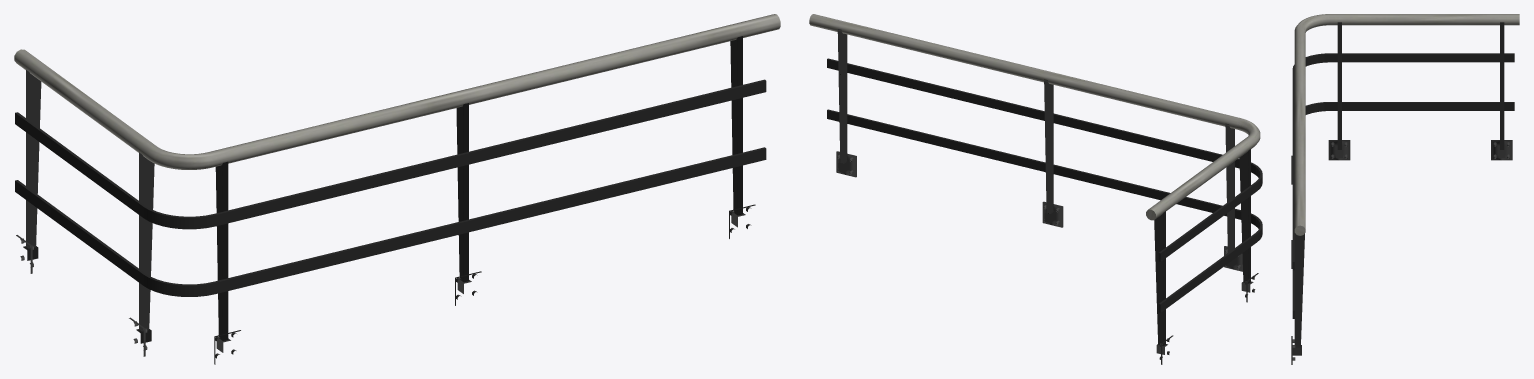
The picture shows the model from 3 angles, left to right: view 1: azimuth 30°, elevation 25°; view 2: azimuth 150°, elevation 25°; view 3: azimuth 270°, elevation 25°; orthographic projection. The views are drawn at different scales.
Parts seen in each view (by area): view 1: body0_model0_lod0_mesh0; view 2: body0_model0_lod0_mesh0; view 3: body0_model0_lod0_mesh0.
Boxes of the visible parts, box(x1,y1,x2,y2) form: body0_model0_lod0_mesh0: box(14, 14, 780, 364); body0_model0_lod0_mesh0: box(809, 14, 1262, 364); body0_model0_lod0_mesh0: box(1291, 14, 1519, 364).
Bounding box in the file's own units: 134 × 43.48 × 60.51.
1 material, 1 textured.
